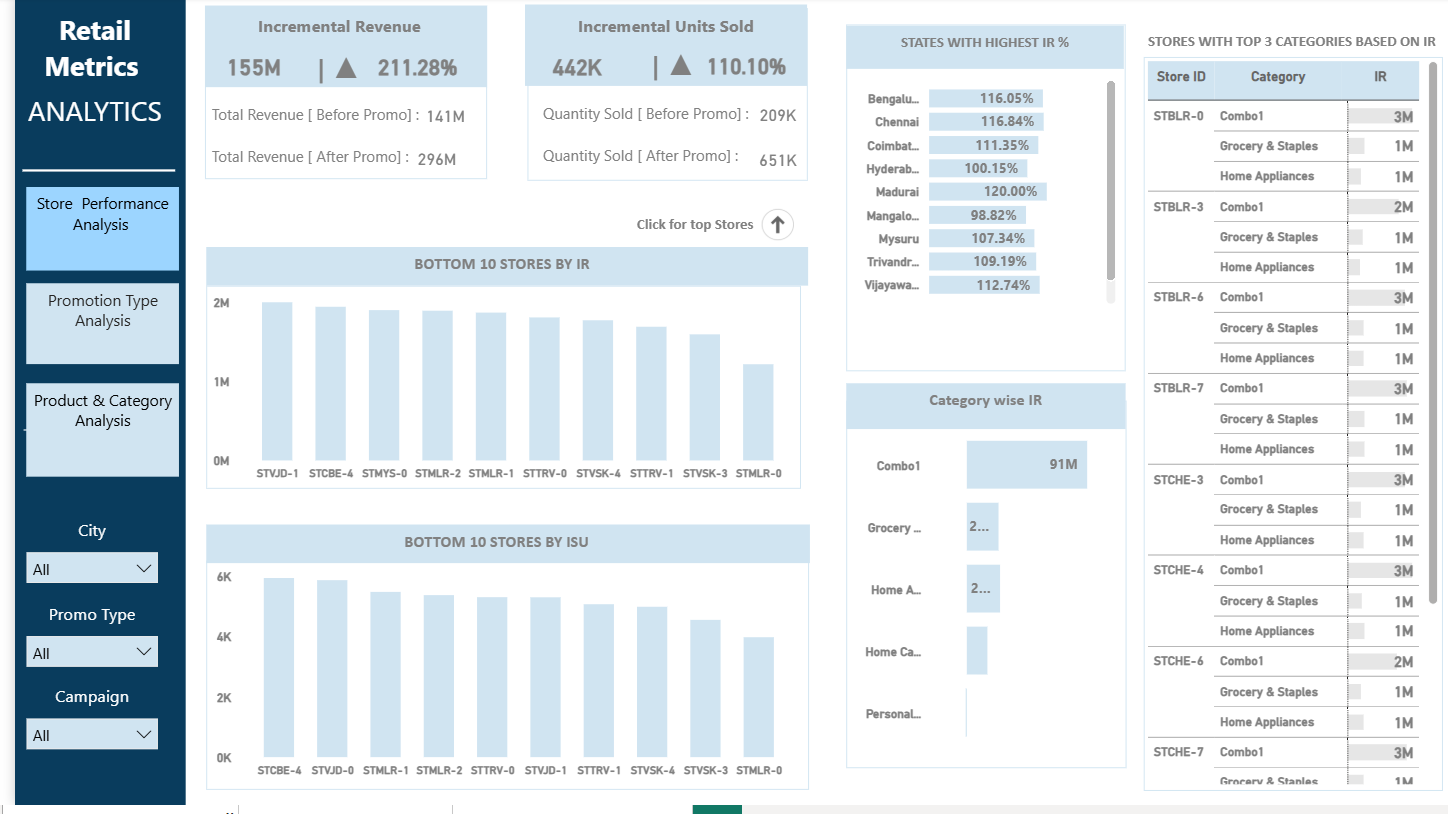

The page's visual inventory and layout, read from the dashboard file:
{"tool":"powerbi","page":{"name":"Store  Performance  Analysis ","canvas":[1280,720],"ordinal":0},"visuals":[{"type":"shape","box":[169.2,7.8,251.2,72.5],"z":0},{"type":"clusteredColumnChart","fields":{"Category":["dim_stores.store_id"],"Y":["Sum(fact_events.IR)"]},"box":[170.1,257,529.6,181],"z":1000},{"type":"pivotTable","fields":{"Rows":["fact_events.store_id","dim_products.category"],"Values":["Sum(fact_events.IR)"]},"box":[1004.2,52.1,268.1,654.2],"z":2000},{"type":"card","fields":{"Values":["Sum(fact_events.Total Revenue(after_promo))"]},"box":[317.6,121.1,117.1,48.5],"z":3000},{"type":"card","fields":{"Values":["Sum(fact_events.Total Revenue(before_promo))"]},"box":[335.4,85,96.9,45.8],"z":4000},{"type":"card","fields":{"Values":["Sum(fact_events.IR)"]},"box":[173.7,44.6,78.4,37.4],"z":5000},{"type":"textbox","box":[169.8,90.4,204.6,35],"z":6000},{"type":"textbox","box":[169.8,127.9,204.6,35],"z":7000},{"type":"textbox","box":[211.7,10.3,171.2,42.5],"z":8000},{"type":"textbox","box":[168.9,7.2,250.9,154.4],"z":9000},{"type":"textbox","box":[0,0,152.1,720.2],"z":10000},{"type":"shape","box":[454.2,6.8,251.2,72.5],"z":11000},{"type":"card","fields":{"Values":["Sum(fact_events.quantity_sold(before_promo))"]},"box":[631.2,84,96.9,45.8],"z":12000},{"type":"card","fields":{"Values":["Sum(fact_events.ISU)"]},"box":[466.7,44.6,68.7,37.4],"z":13000},{"type":"textbox","box":[465.6,89.4,204.6,35],"z":14000},{"type":"textbox","box":[465.6,126.9,204.6,35],"z":15000},{"type":"textbox","box":[496.2,10,210,41.7],"z":16000},{"type":"textbox","box":[456,9.7,249.7,153.2],"z":17000},{"type":"textbox","box":[740.5,25.3,247.2,38.6],"z":18000},{"type":"textbox","box":[1004.6,24.1,275,28.9],"z":19000},{"type":"textbox","box":[1005,53.1,266.6,653.9],"z":20000},{"type":"card","fields":{"Values":["Sum(fact_events.Qunatity Sold After Promotion)"]},"box":[630.8,123,96.9,45.8],"z":21000},{"type":"card","fields":{"Values":["Measures (2).ISU %"]},"box":[296.7,22.9,123,78.4],"z":22000},{"type":"card","fields":{"Values":["Measures (2).IR %"]},"box":[608,30.2,87.5,64.6],"z":23000},{"type":"textbox","box":[0,7.2,142.4,74.8],"z":24000},{"type":"textbox","box":[0,79.6,142.4,50.7],"z":25000},{"type":"shape","box":[6.7,130.6,136,48.5],"z":26000},{"type":"slicer","title":"City","fields":{"Values":["dim_stores.city"]},"box":[0,464.7,137.3,74],"z":27000},{"type":"slicer","title":"Promo Type","fields":{"Values":["fact_events.promo_type"]},"box":[0,538.2,137.3,74],"z":28000},{"type":"slicer","title":"Campaign","fields":{"Values":["dim_campaigns.campaign_name"]},"box":[0,612.3,137.3,74],"z":29000},{"type":"shape","box":[7.2,343.8,135.1,83.2],"z":30000},{"type":"textbox","box":[9.7,168.9,136.3,74.8],"z":31000},{"type":"textbox","box":[9.7,254.6,136.3,72.4],"z":32000},{"type":"textbox","box":[9.7,343.8,136.3,83.2],"z":33000},{"type":"textbox","box":[548.9,186.9,137.8,38.5],"z":34000},{"type":"image","box":[660.4,181.2,38.5,42.2],"z":35000},{"type":"clusteredColumnChart","fields":{"Category":["dim_stores.store_id"],"Y":["Sum(fact_events.ISU)"]},"box":[174.3,502.5,526.3,201.1],"z":36000},{"type":"textbox","box":[170.1,222.2,536.2,34.8],"z":37000},{"type":"textbox","box":[350.5,223.2,243.3,31],"z":38000},{"type":"textbox","box":[170.1,469.2,537.5,34.8],"z":39000},{"type":"textbox","box":[341.7,470.5,243.3,31],"z":40000},{"type":"textbox","box":[170.1,501.9,536.9,203.9],"z":41000},{"type":"textbox","box":[740.8,24.1,248.5,308.8],"z":42000},{"type":"card","fields":{"Values":["Measures (2).Icon for IR"]},"box":[252.1,41,74.8,43.4],"z":52000},{"type":"card","fields":{"Values":["Measures (2).Icon for ISU"]},"box":[510.2,15.7,154.4,89.2],"z":53000},{"type":"shape","box":[2.4,206.3,149.6,32.6],"z":54000},{"type":"shape","box":[7.2,257,149.6,70],"z":55000},{"type":"shape","box":[9.7,380,149.6,42.2],"z":56000},{"type":"clusteredBarChart","fields":{"Category":["dim_stores.city"],"Y":["Measures (2).IR %"]},"box":[740.8,61.5,244.9,217.2],"z":57000},{"type":"barChart","fields":{"Category":["dim_products.category"],"Y":["Measures (2).Total IR"]},"box":[740.8,359.5,249.7,326.9],"z":58000},{"type":"textbox","box":[740.8,343.8,248.5,41],"z":59000}]}

Visuals, with their boxes on the page's 1280x720 design canvas (x1, y1, x2, y2). These are canvas units, not pixel positions in the 1448x814 screenshot, which may show the page scaled, cropped or inside an application window:
shape: region(169, 8, 420, 80)
clusteredColumnChart - dim_stores.store_id x Sum(fact_events.IR): region(170, 257, 700, 438)
pivotTable - fact_events.store_id x dim_products.category: region(1004, 52, 1272, 706)
card - Sum(fact_events.Total Revenue(after_promo)): region(318, 121, 435, 170)
card - Sum(fact_events.Total Revenue(before_promo)): region(335, 85, 432, 131)
card - Sum(fact_events.IR): region(174, 45, 252, 82)
textbox: region(170, 90, 374, 125)
textbox: region(170, 128, 374, 163)
textbox: region(212, 10, 383, 53)
textbox: region(169, 7, 420, 162)
textbox: region(0, 0, 152, 720)
shape: region(454, 7, 705, 79)
card - Sum(fact_events.quantity_sold(before_promo)): region(631, 84, 728, 130)
card - Sum(fact_events.ISU): region(467, 45, 535, 82)
textbox: region(466, 89, 670, 124)
textbox: region(466, 127, 670, 162)
textbox: region(496, 10, 706, 52)
textbox: region(456, 10, 706, 163)
textbox: region(740, 25, 988, 64)
textbox: region(1005, 24, 1280, 53)
textbox: region(1005, 53, 1272, 707)
card - Sum(fact_events.Qunatity Sold After Promotion): region(631, 123, 728, 169)
card - Measures (2).ISU %: region(297, 23, 420, 101)
card - Measures (2).IR %: region(608, 30, 696, 95)
textbox: region(0, 7, 142, 82)
textbox: region(0, 80, 142, 130)
shape: region(7, 131, 143, 179)
"City" slicer: region(0, 465, 137, 539)
"Promo Type" slicer: region(0, 538, 137, 612)
"Campaign" slicer: region(0, 612, 137, 686)
shape: region(7, 344, 142, 427)
textbox: region(10, 169, 146, 244)
textbox: region(10, 255, 146, 327)
textbox: region(10, 344, 146, 427)
textbox: region(549, 187, 687, 225)
image: region(660, 181, 699, 223)
clusteredColumnChart - dim_stores.store_id x Sum(fact_events.ISU): region(174, 502, 701, 704)
textbox: region(170, 222, 706, 257)
textbox: region(350, 223, 594, 254)
textbox: region(170, 469, 708, 504)
textbox: region(342, 470, 585, 502)
textbox: region(170, 502, 707, 706)
textbox: region(741, 24, 989, 333)
card - Measures (2).Icon for IR: region(252, 41, 327, 84)
card - Measures (2).Icon for ISU: region(510, 16, 665, 105)
shape: region(2, 206, 152, 239)
shape: region(7, 257, 157, 327)
shape: region(10, 380, 159, 422)
clusteredBarChart - dim_stores.city x Measures (2).IR %: region(741, 62, 986, 279)
barChart - dim_products.category x Measures (2).Total IR: region(741, 360, 990, 686)
textbox: region(741, 344, 989, 385)
